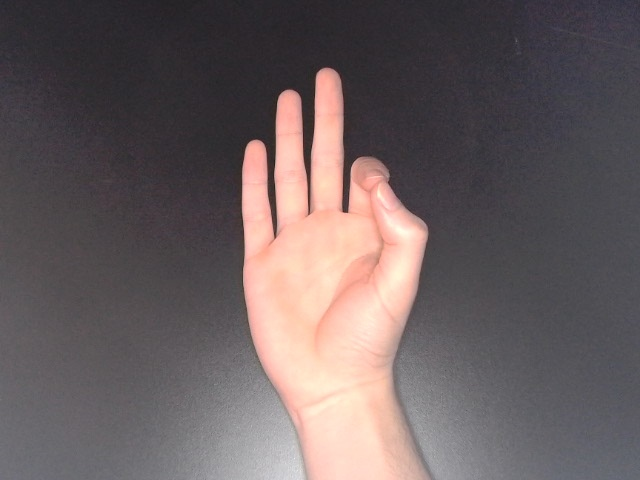f: (237, 64, 432, 427)
